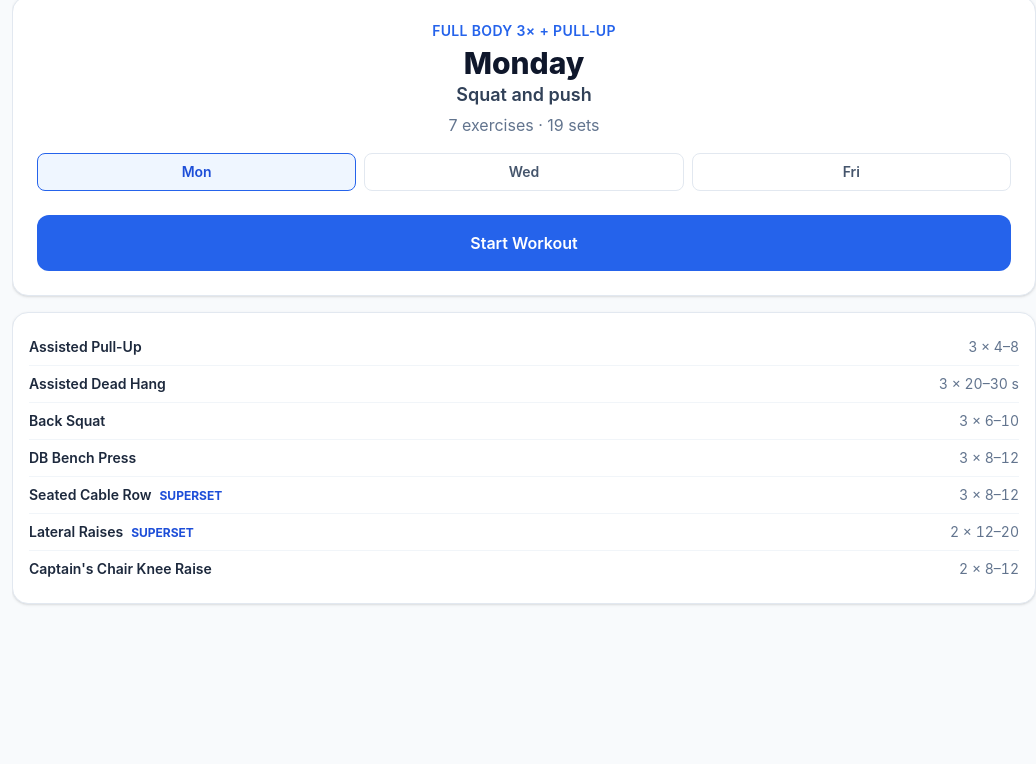
it: Strength runs Preset Programme 1 (S-004, spec §10.1) › logs a timed carry with its weight, seconds first, and saves that as your starting weight
Click the button "Fri".
click(851, 172)  # box [692, 153, 1011, 191]
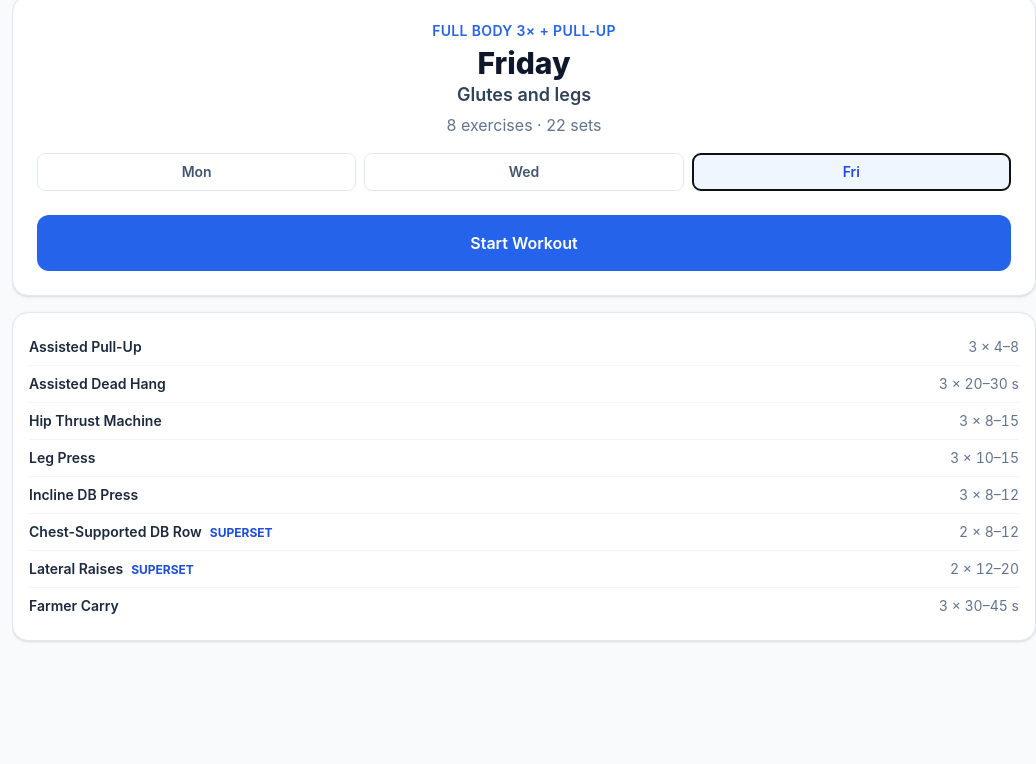
Click the button "Start Workout".
click(524, 243)  # box [37, 215, 1011, 271]
(page scrolled)
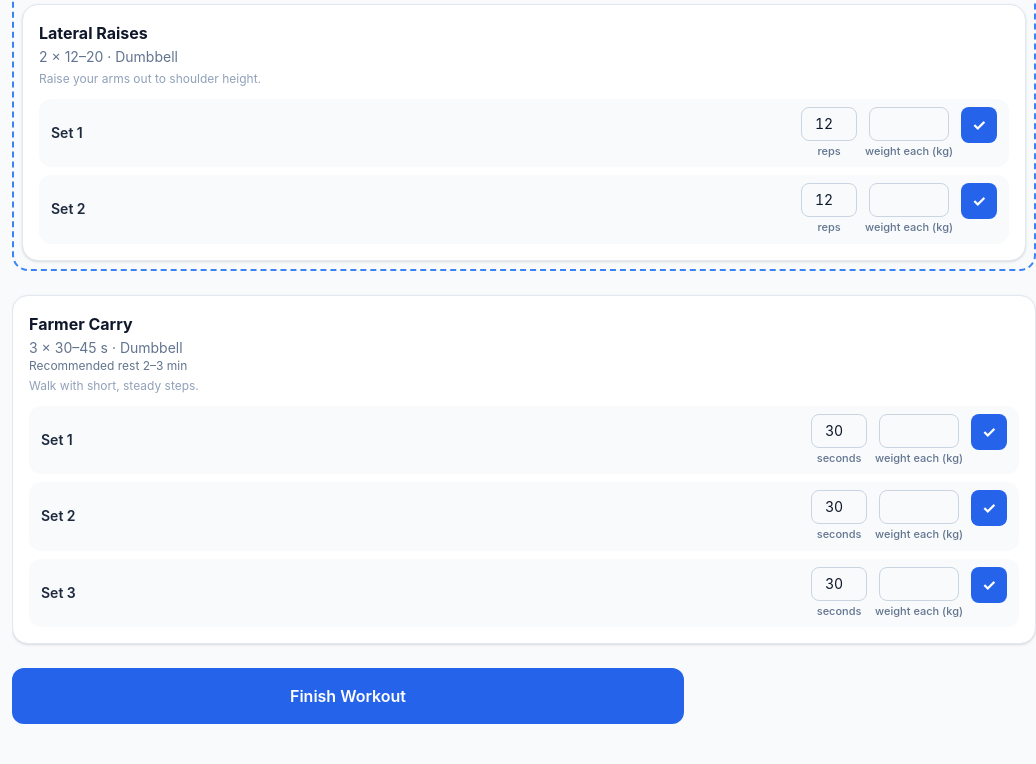
Expected: the text "weight each (kg)" is shown 3 times, [875, 450, 963, 466]; [875, 526, 963, 542]; [875, 602, 963, 619]
Type "16" into the number field named "Set 1 weight".
click(919, 430); type("16")  # box [879, 414, 959, 448]
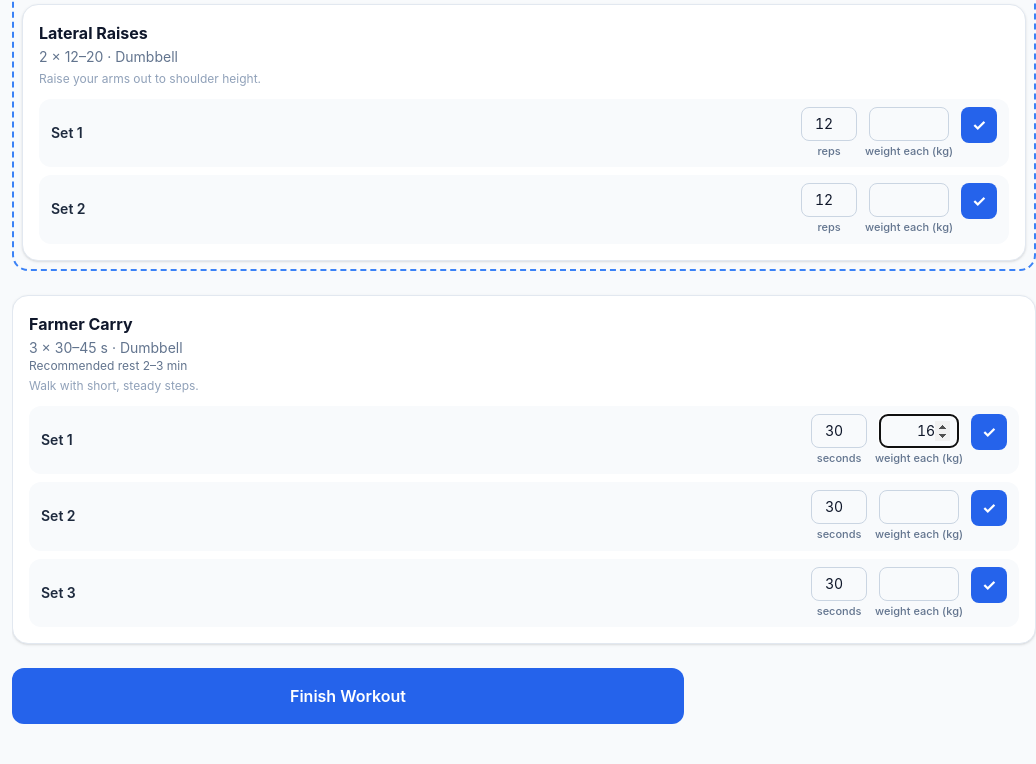
Click the button named "Complete set 1".
click(989, 432)  # box [971, 414, 1007, 450]
(page scrolled)
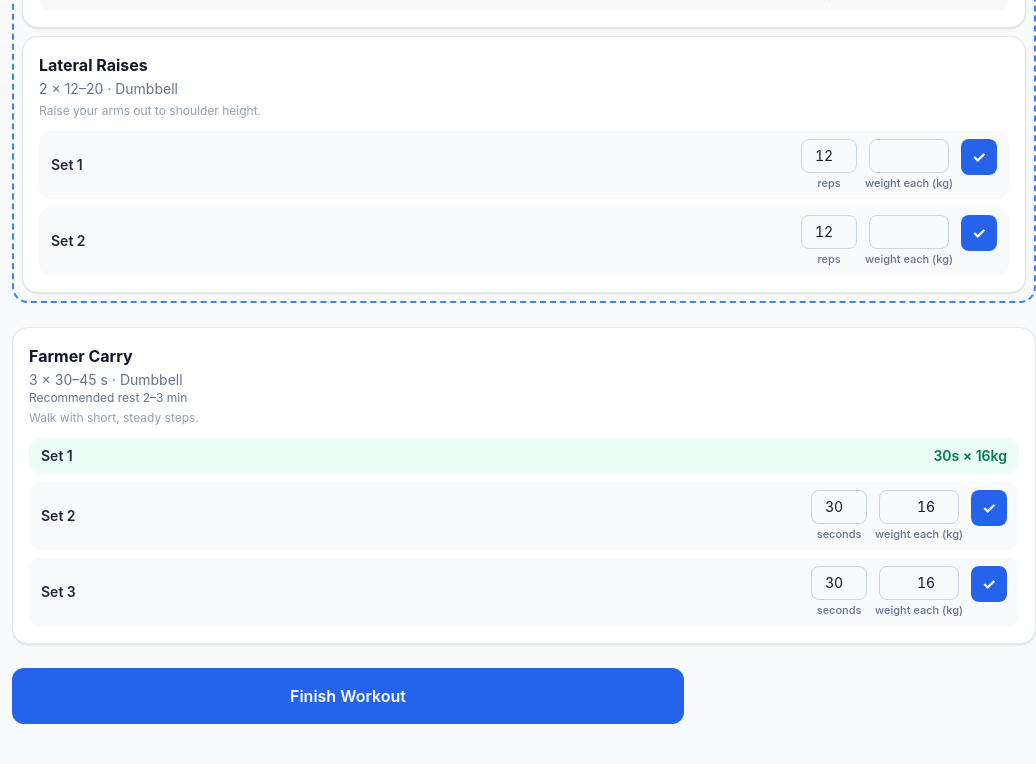
Expected: the text "30s × 16kg" is shown, [933, 446, 1007, 466]
